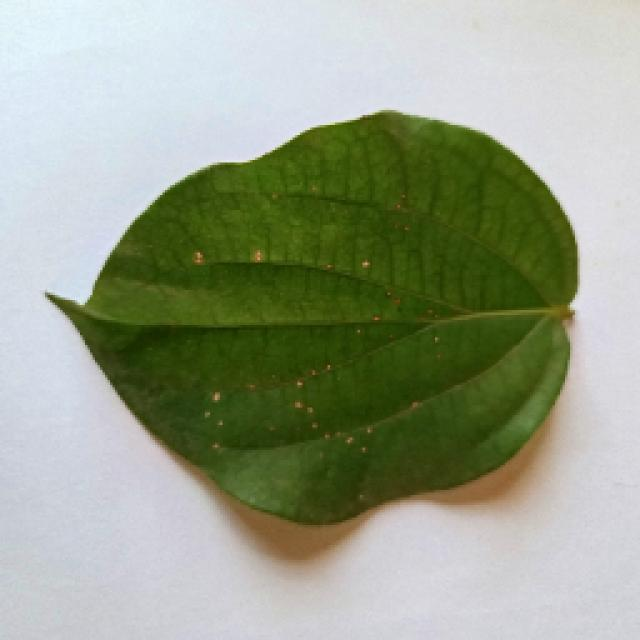pollu-disease: (27, 112, 585, 542)
